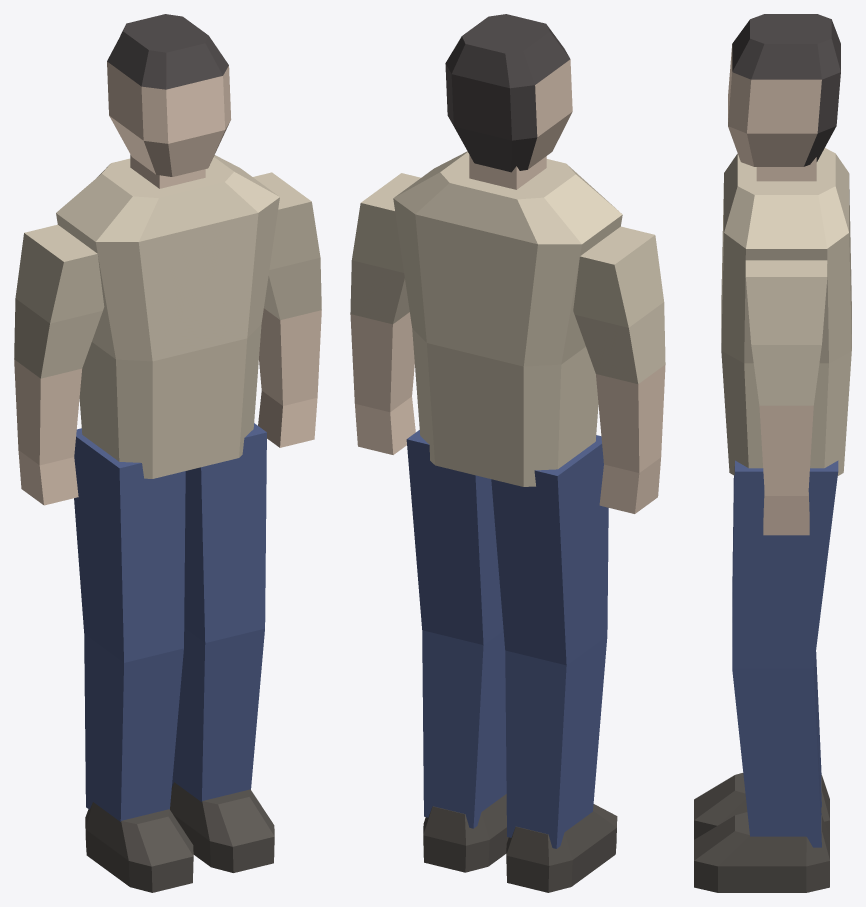
The model's file is pedestrian_4.fbx.
3 renders of one model, left to right at view 1: azimuth 30°, elevation 25°; view 2: azimuth 150°, elevation 25°; view 3: azimuth 270°, elevation 25°, orthographic. The views are drawn at different scales.
Visible parts, largest first — view 1: pedestrian_4; view 2: pedestrian_4; view 3: pedestrian_4.
Part boxes in pixels (x1,y1,x2,y2): pedestrian_4: [14, 14, 321, 892]; pedestrian_4: [350, 14, 665, 892]; pedestrian_4: [694, 14, 851, 892].
Bounding box in the file's own units: 0.61 × 1.68 × 0.29.
